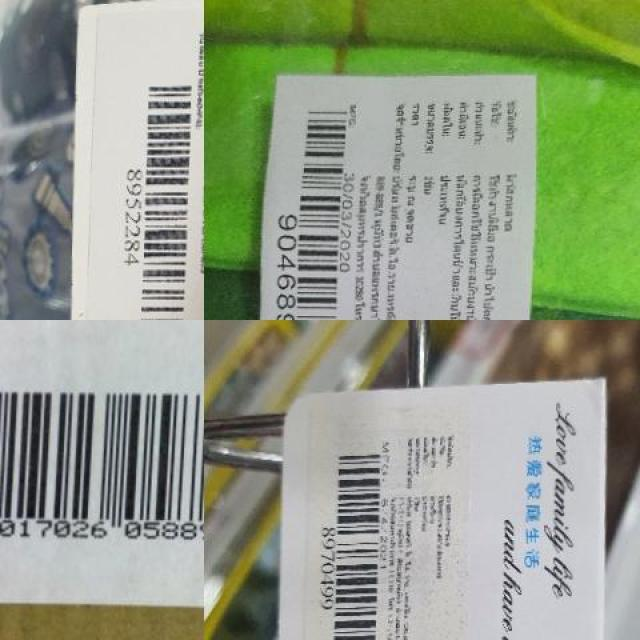Barcode: (0, 375, 204, 557), (117, 73, 203, 320), (271, 93, 352, 320), (317, 437, 388, 640)
